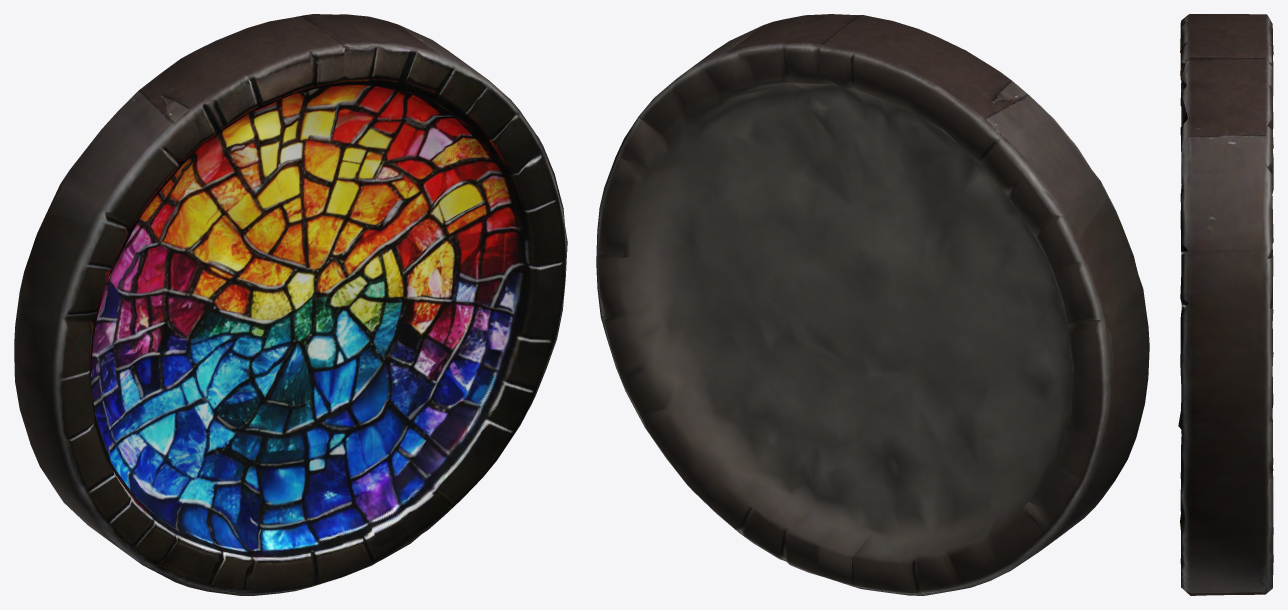
File: testRefreshRainbow.glb
The picture shows the model from 3 angles, left to right: view 1: azimuth 30°, elevation 25°; view 2: azimuth 150°, elevation 25°; view 3: azimuth 270°, elevation 25°; orthographic projection. The views are drawn at different scales.
Visible parts, largest first — view 1: Mesh_0; view 2: Mesh_0; view 3: Mesh_0.
Boxes of the visible parts, x1,y1,x2,y2 form: Mesh_0: (14,14,567,595); Mesh_0: (596,14,1149,595); Mesh_0: (1178,14,1273,595).
Bounding box in the file's own units: 0.9988 × 1 × 0.1641.
Materials: 1 (1 with a texture image).
